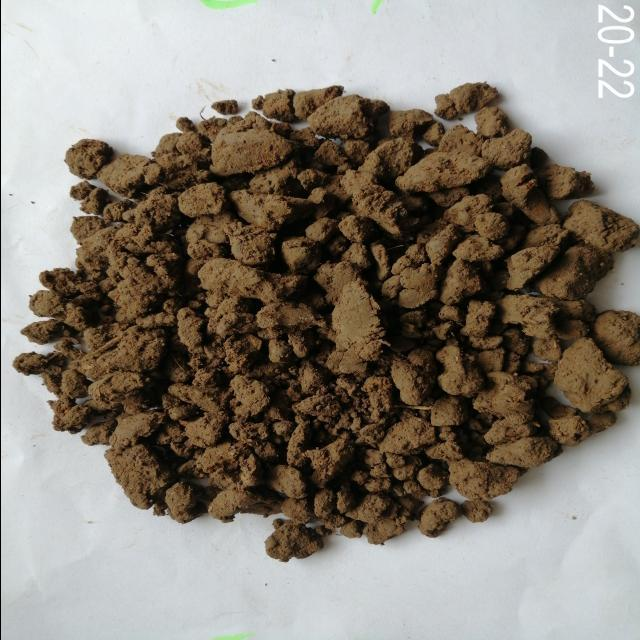soil: (101, 148, 538, 494)
